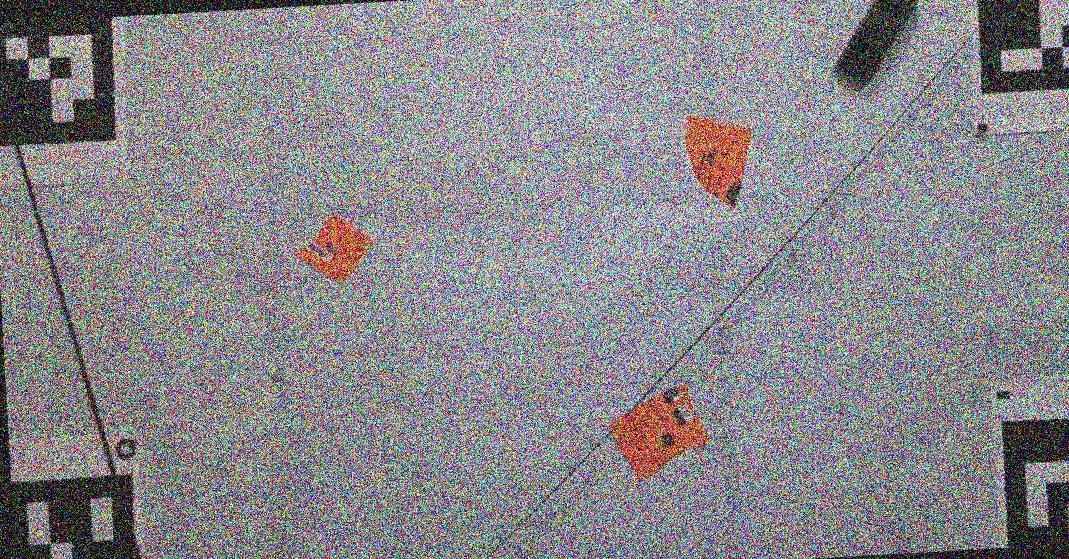obstacle: (609, 383, 707, 480), (832, 0, 916, 89), (682, 116, 754, 210), (299, 211, 373, 285)
